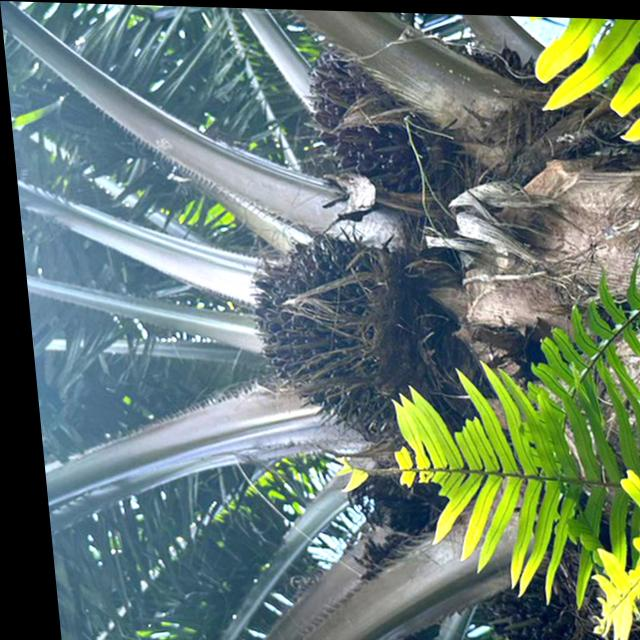unripe: (220, 220, 417, 431)
